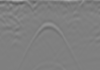hyperbola: (22, 21, 79, 62)
